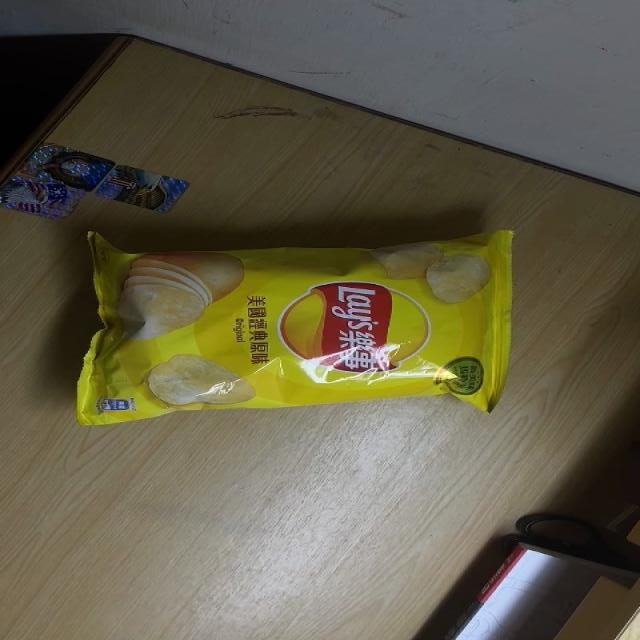Lay-s-original: (72, 229, 516, 428)
